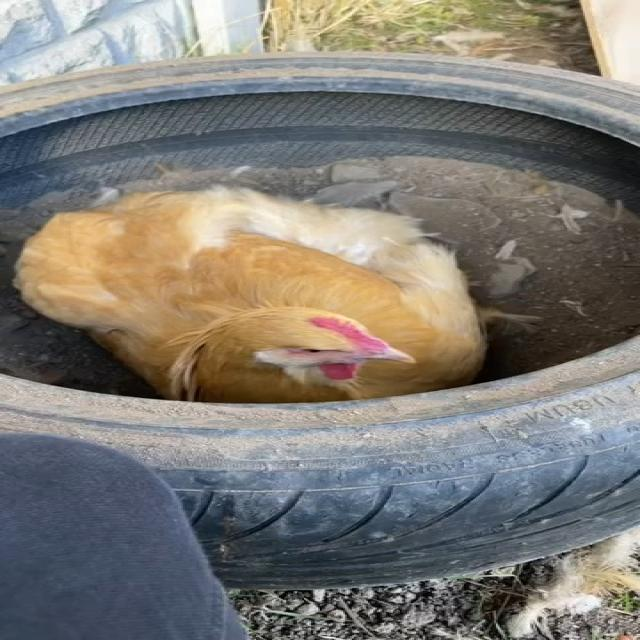stand bath: (7, 158, 526, 410)
